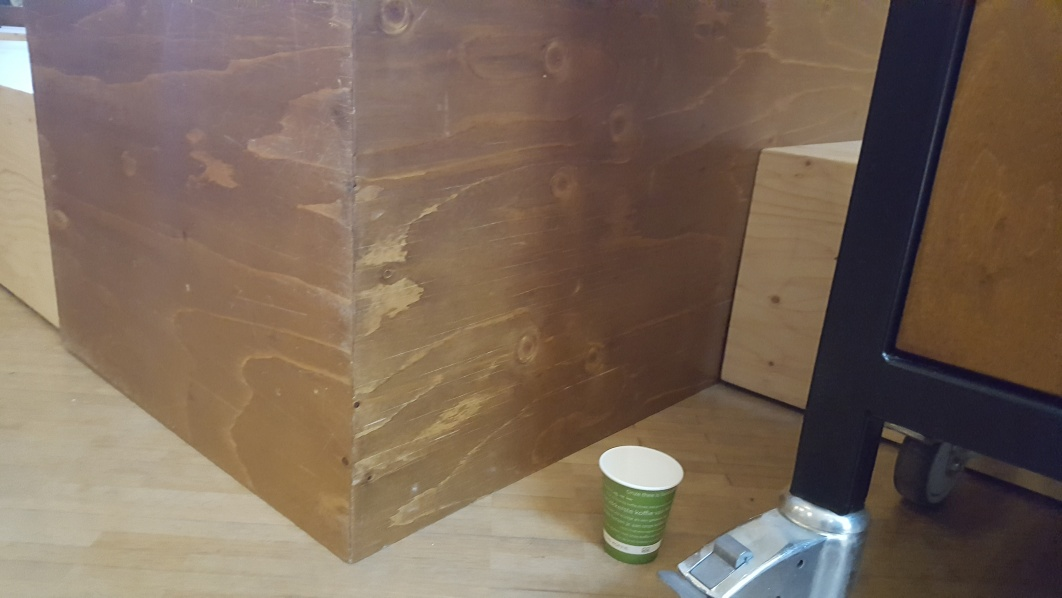cup: (598, 444, 684, 567)
